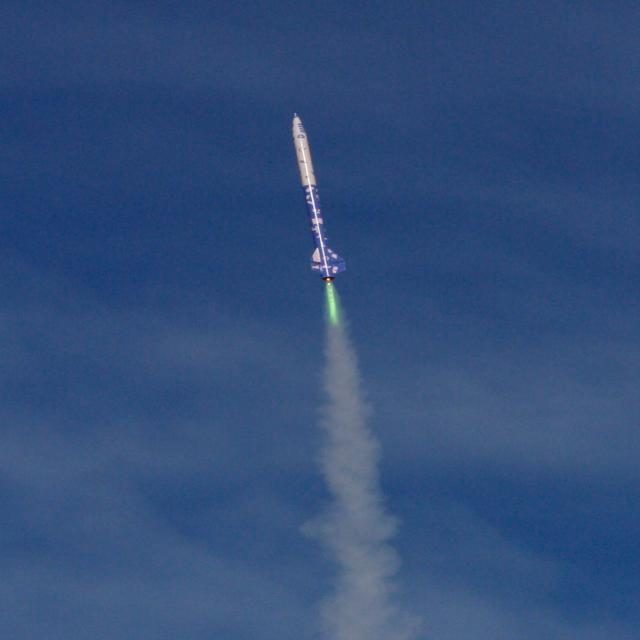Rocket: (290, 111, 348, 282)
